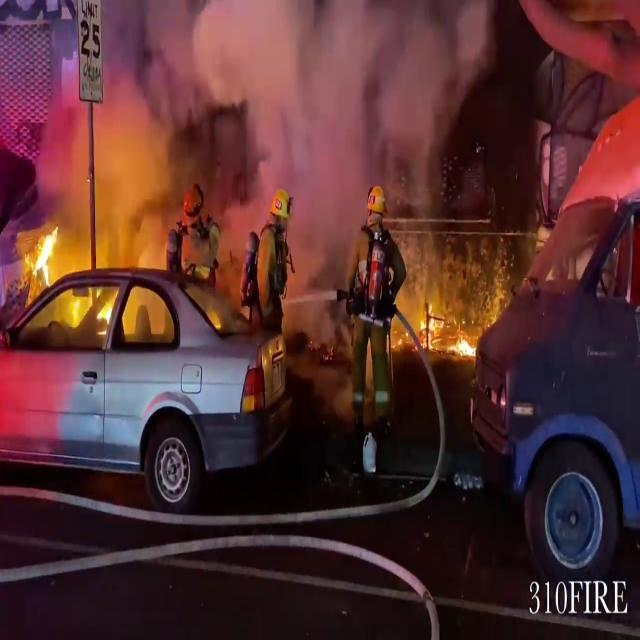Fire: (22, 218, 63, 300), (421, 302, 476, 357)
Smoke: (19, 0, 494, 288)
